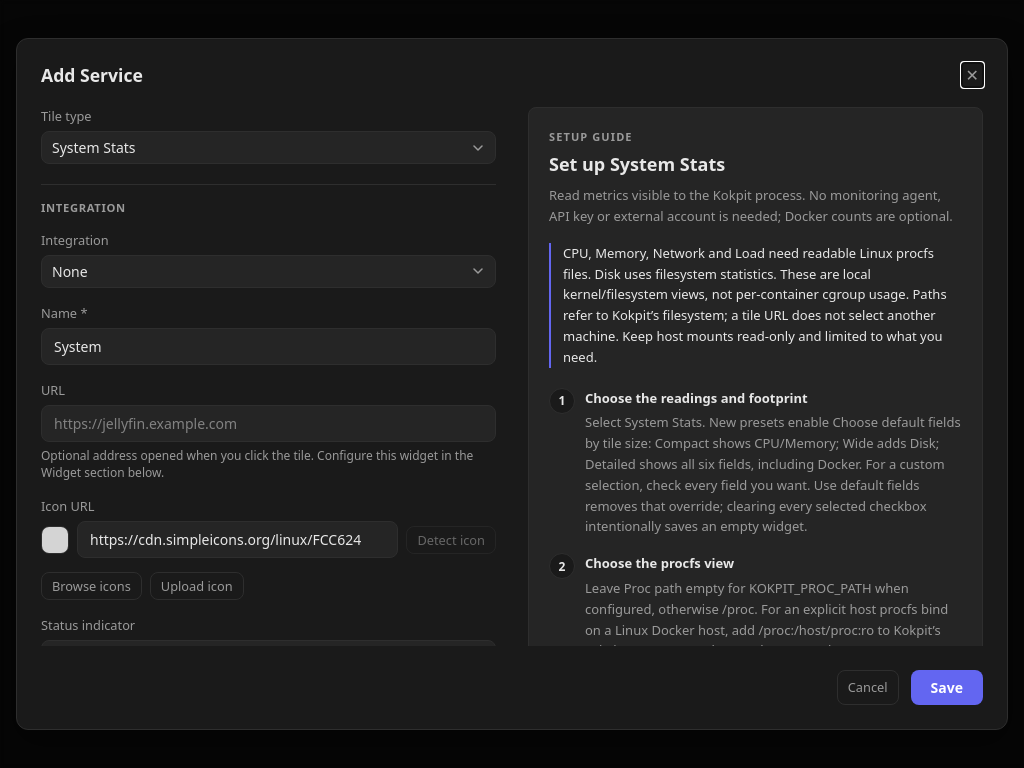
it: ServiceForm – rendering › removes widget-only guidance and its URL description when switching to a generic tile
Select "Generic" in the dropdown labelled "Tile type": (268, 148) left=41, top=131, right=496, bottom=164
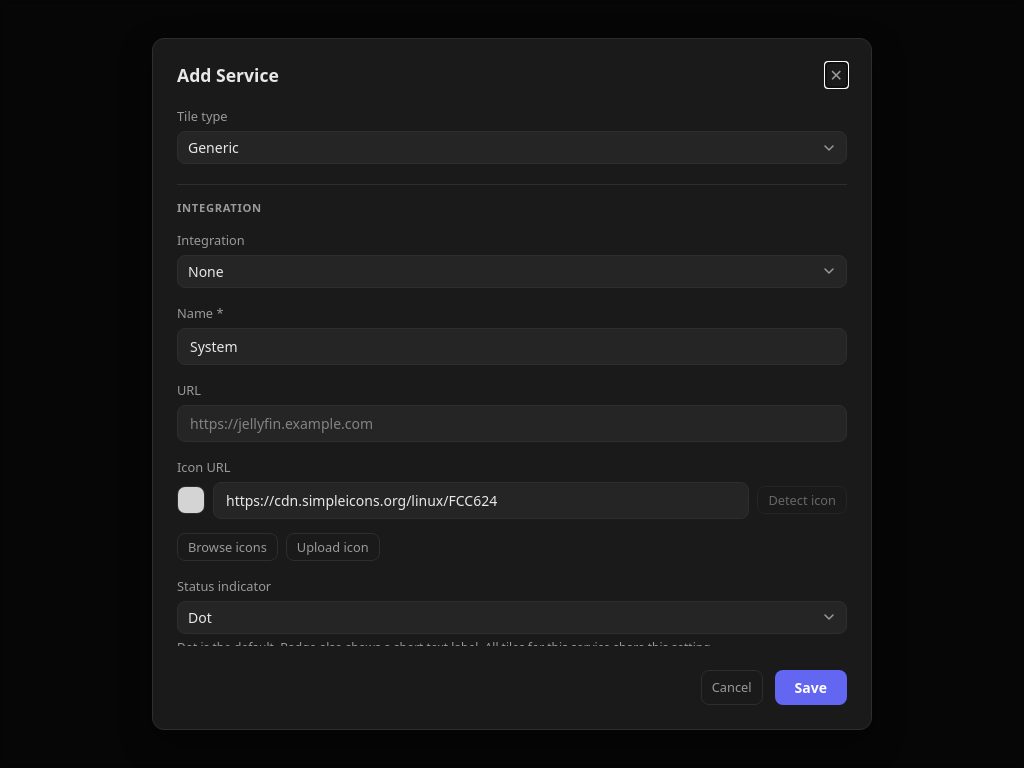
expect the heading labelled "Set up System Stats" is gone: met
